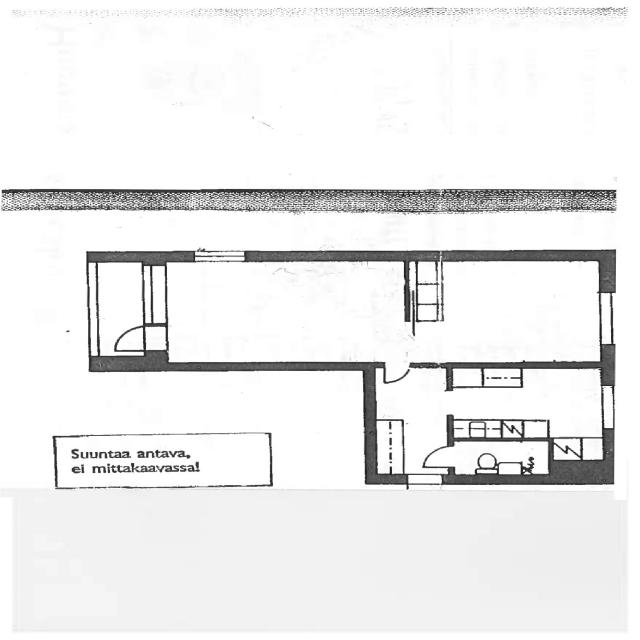door: (109, 323, 165, 352), (419, 444, 460, 469), (380, 362, 414, 386)
window: (592, 286, 621, 354), (138, 266, 168, 326), (597, 382, 620, 433), (187, 248, 252, 266), (400, 472, 446, 488)
zone: (156, 258, 404, 366), (408, 259, 604, 366), (446, 366, 608, 440), (448, 439, 552, 481)
